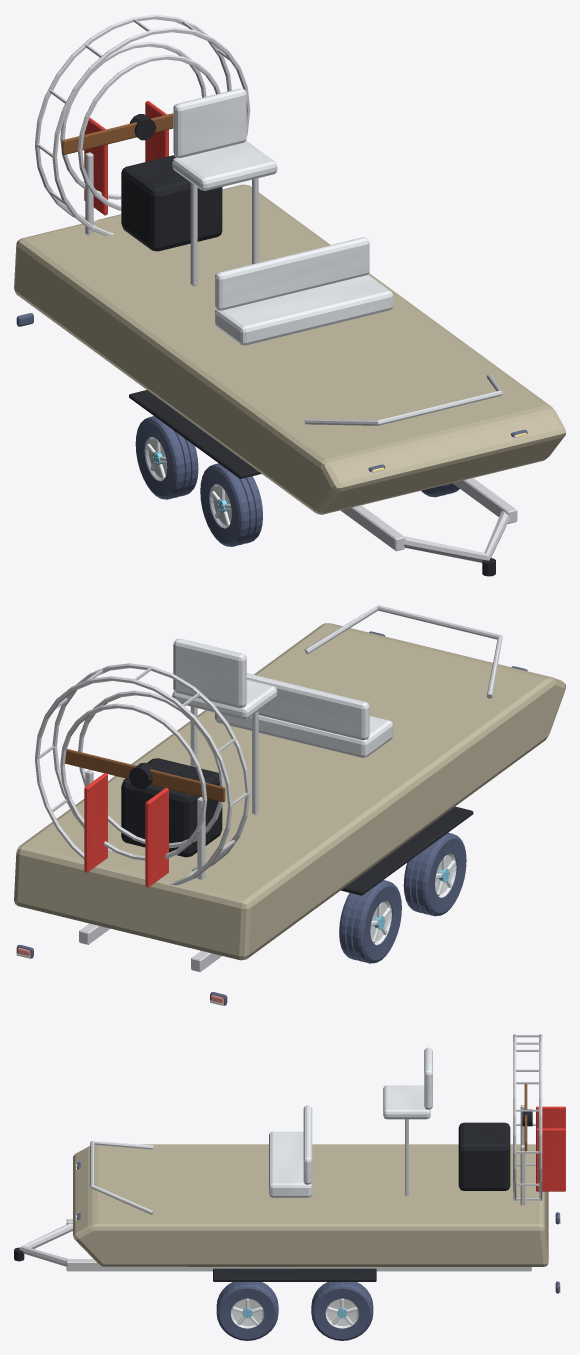
Rendered from B03_swamp_airboat_v3.glb.
3 renders of one model, top to bottom at view 1: azimuth 30°, elevation 25°; view 2: azimuth 150°, elevation 25°; view 3: azimuth 270°, elevation 25°, orthographic. The views are drawn at different scales.
Parts seen in each view (by area): view 1: Body, Static, Wheel_FR, Wheel_RR, Propeller; view 2: Body, Static, Wheel_RR, Wheel_FR, Propeller; view 3: Body, Static, Wheel_FL, Wheel_RL.
Boxes of the visible parts, x1,y1,x2,y2 form: Body: (14, 184, 565, 514); Static: (16, 14, 527, 576); Wheel_FR: (200, 463, 262, 546); Wheel_RR: (135, 416, 198, 499); Propeller: (62, 113, 173, 154); Body: (14, 623, 565, 960); Static: (16, 605, 527, 1005); Wheel_RR: (339, 880, 401, 963); Wheel_FR: (403, 832, 466, 916); Propeller: (65, 749, 225, 802); Body: (73, 1144, 548, 1266); Static: (14, 1034, 565, 1293); Wheel_FL: (216, 1282, 278, 1340); Wheel_RL: (311, 1282, 373, 1340).
Size of what is drawn, in the model's own units: 2.3 by 3.32 by 6.4.
Materials: 2 (1 with a texture image).
